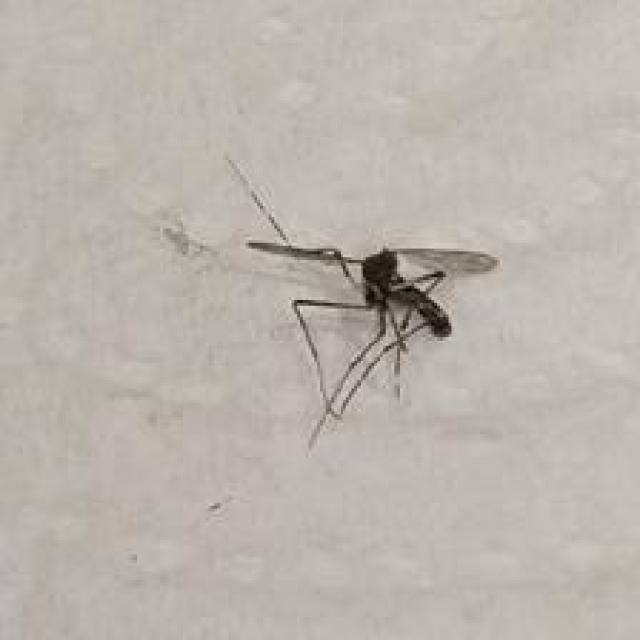Aedes albopictus: (223, 154, 500, 452)
